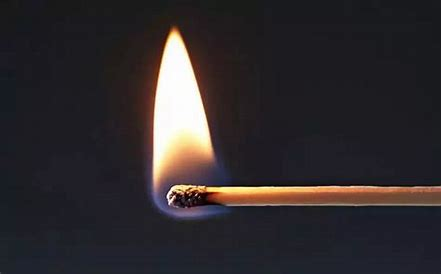Fire: (145, 17, 236, 224)
